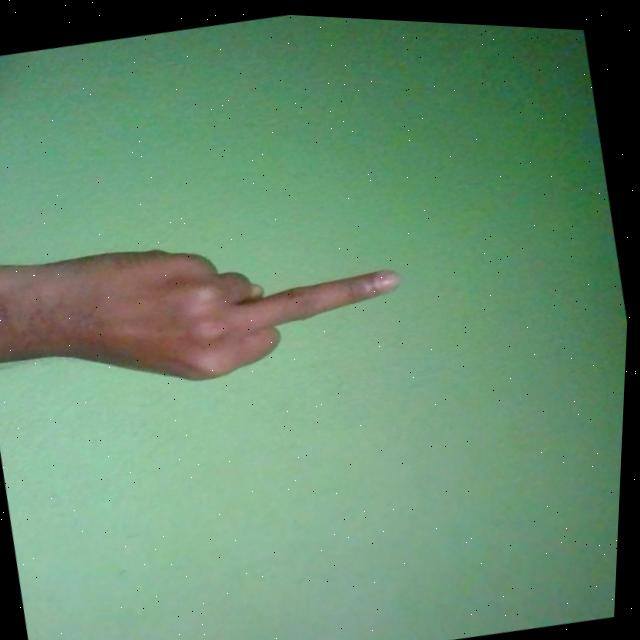Middle Finger: (0, 192, 423, 426)
